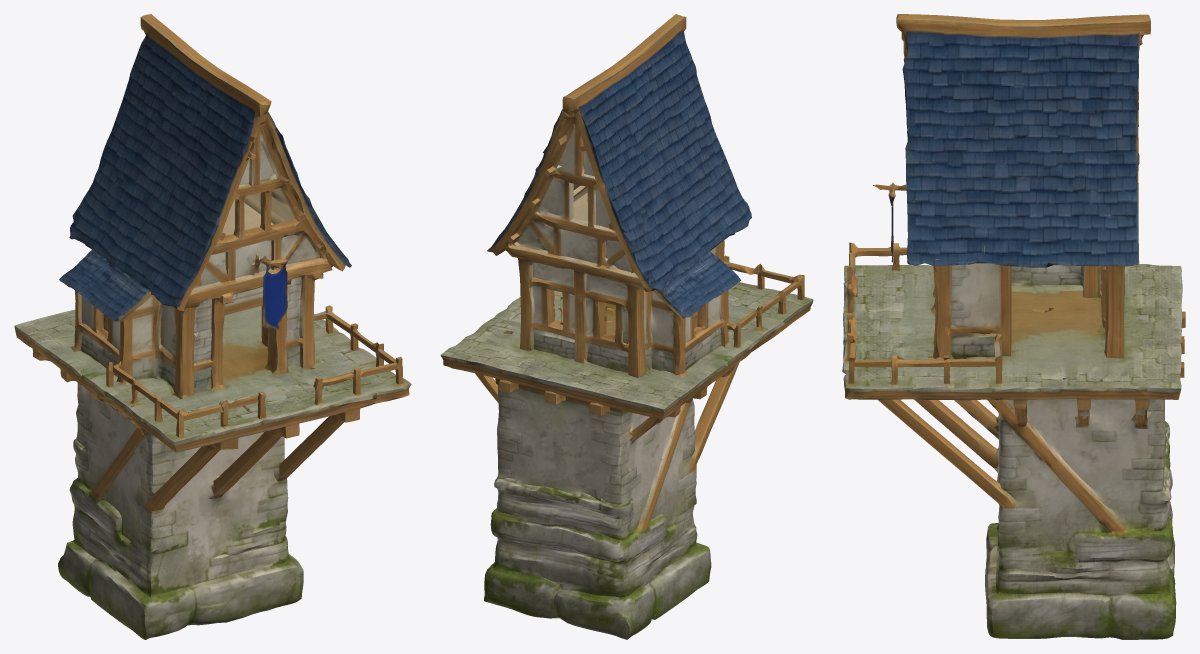
The model's file is cloudreach_stilt_house.glb.
The picture shows the model from 3 angles, left to right: view 1: azimuth 30°, elevation 25°; view 2: azimuth 150°, elevation 25°; view 3: azimuth 270°, elevation 25°; orthographic projection. The views are drawn at different scales.
Visible parts, largest first — view 1: Mesh_0; view 2: Mesh_0; view 3: Mesh_0.
Boxes of the visible parts, bbox=[...] form: Mesh_0: bbox=[14, 14, 411, 639]; Mesh_0: bbox=[440, 14, 813, 639]; Mesh_0: bbox=[842, 14, 1185, 639].
Bounding box in the file's own units: 4.08 × 9 × 4.8.
Materials: 1 (1 with a texture image).
